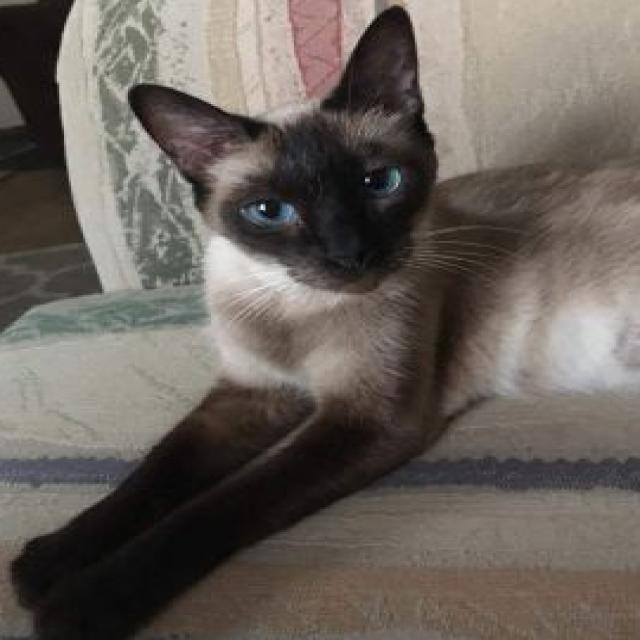Siamese: (2, 2, 640, 640)
